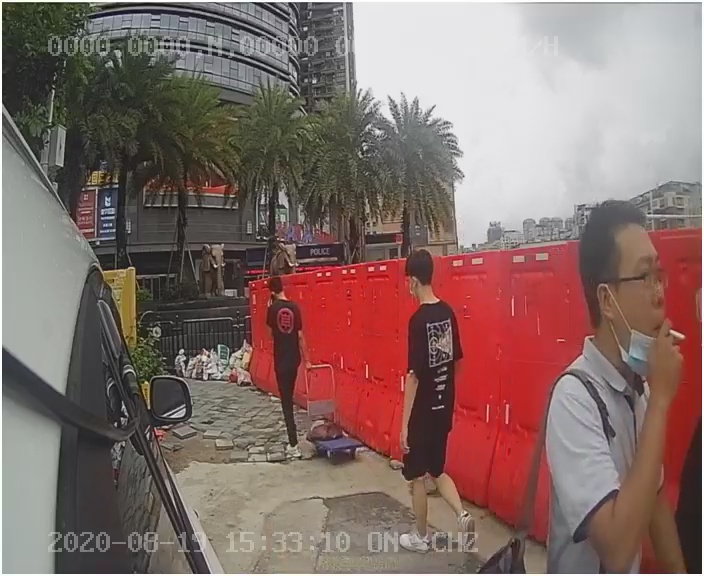person: (380, 246, 485, 546)
